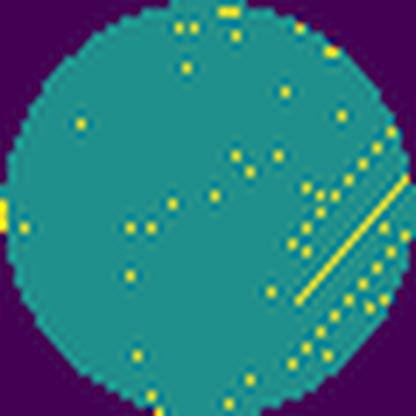Scratch: (294, 173, 412, 310)
